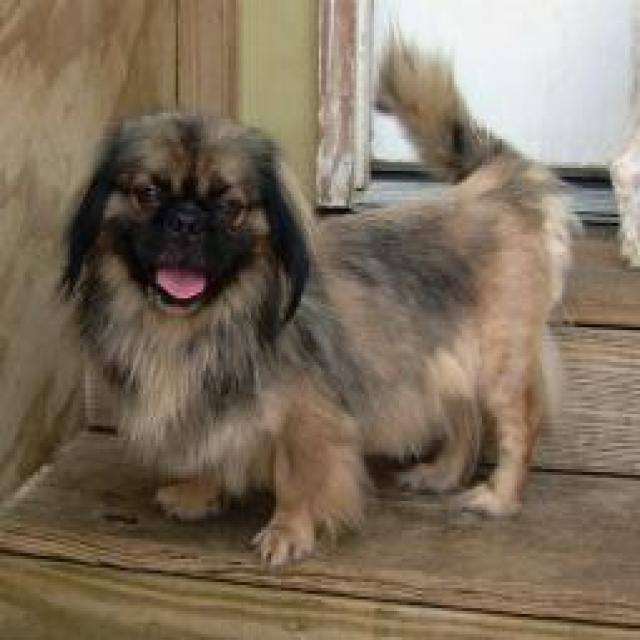adult_dog: (57, 36, 579, 564)
